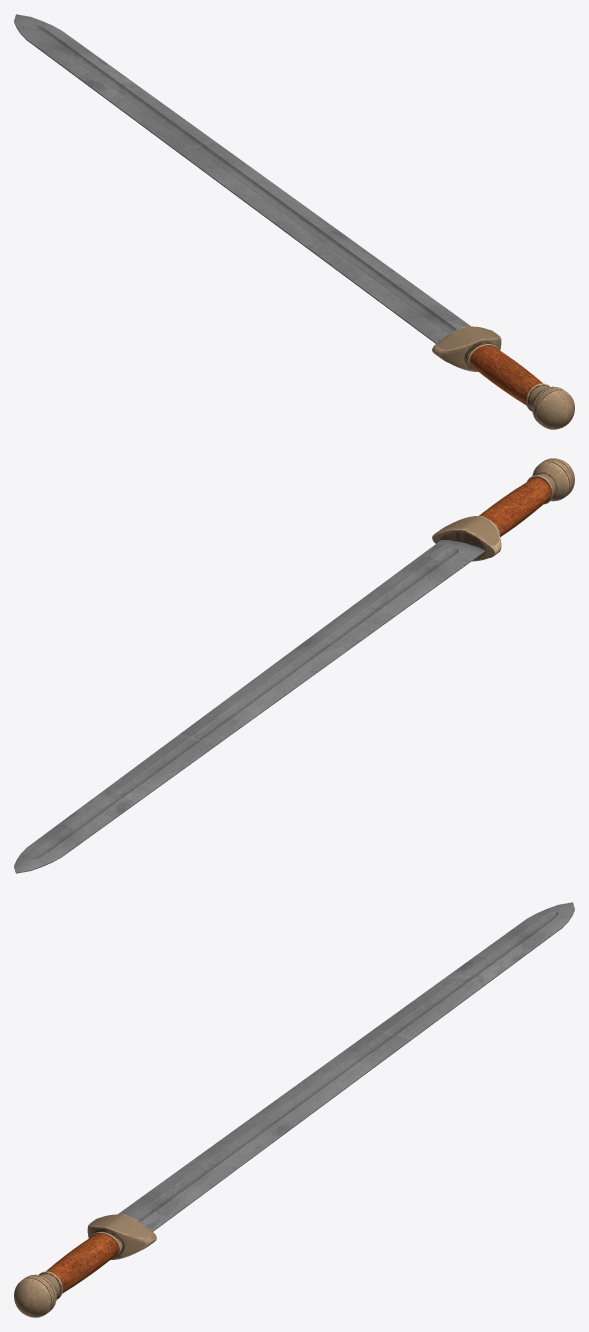
Rendered from roman_spatha.glb.
The picture shows the model from 3 angles, top to bottom: view 1: azimuth 30°, elevation 25°; view 2: azimuth 150°, elevation 25°; view 3: azimuth 330°, elevation 25°; orthographic projection.
Visible parts, largest first — view 1: Object_2; view 2: Object_2; view 3: Object_2.
Part boxes in pixels (x1,y1,x2,y2): Object_2: [14, 14, 574, 429]; Object_2: [14, 458, 574, 873]; Object_2: [14, 902, 574, 1317].
Bounding box in the file's own units: 0.0654 × 0.0374 × 0.9801.
Materials: 1 (1 with a texture image).
